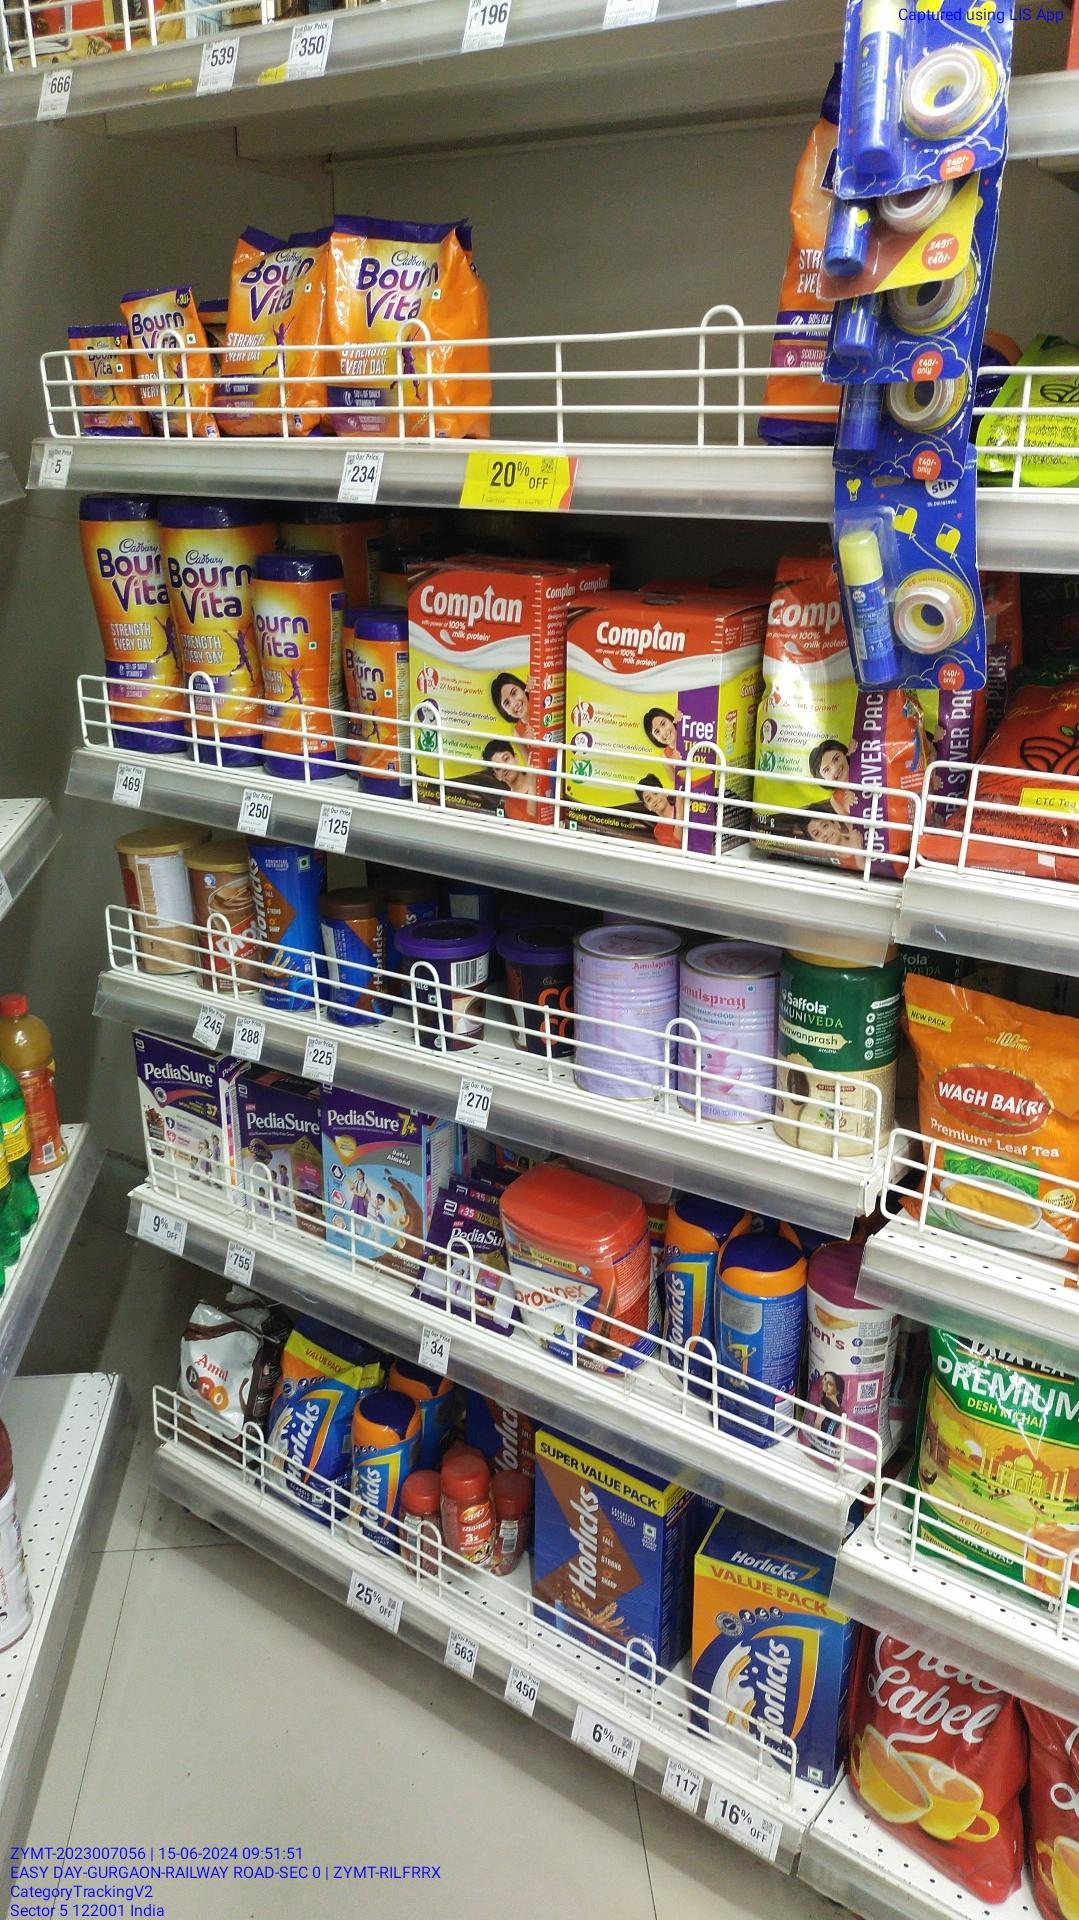BOURN_VITA_1_KG_JAR: (168, 497, 249, 767), (86, 497, 164, 750)
BOURN_VITA_200_G_JAR: (354, 621, 393, 795)
BOURN_VITA_500_G_JAR: (252, 553, 327, 781)
BOURN_VITA_500_G_POUCH: (331, 215, 452, 435), (219, 228, 324, 435)
BOURN_VITA_75_G_POUCH: (132, 285, 200, 436)
COMPLAN_CHOCOLATE_500_GMS_PACK: (563, 604, 714, 851), (404, 562, 541, 820)
COMPLAN_RC_POUCH_700_GMS_12: (747, 556, 865, 868)
HORLICK_CHOCOLATE_1_KG_PACK: (533, 1432, 663, 1685)
HORLICK_CLASSIC_MALT_500_G_JAR: (348, 1407, 394, 1556)
HORLICK_CLASSIC_MALT_500_G_PACK: (690, 1556, 836, 1796)
HORLICK_CLASSIC_MALT_750_G_POUCH: (257, 1333, 344, 1519)
PROTINEX_CHOCOLATE_400_G_JAR: (505, 1220, 613, 1374)
